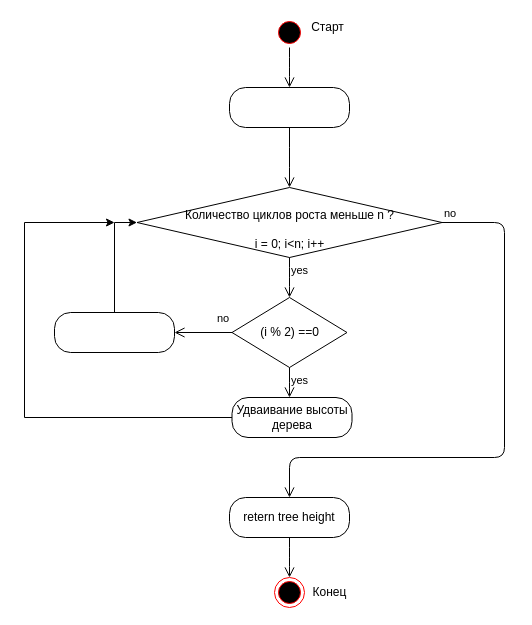
Some shapes in this 532 by 625 pixel diagram are drawn without their labels. The shapes that lost their labels are listed below. From the top down, each one's centre as x and y in pixels, then its label:
pixel 289 107: int tree_height = 1; int spring = 2; int summer = 1;
pixel 114 332: Прибавление к высоте дерева 1 метр
